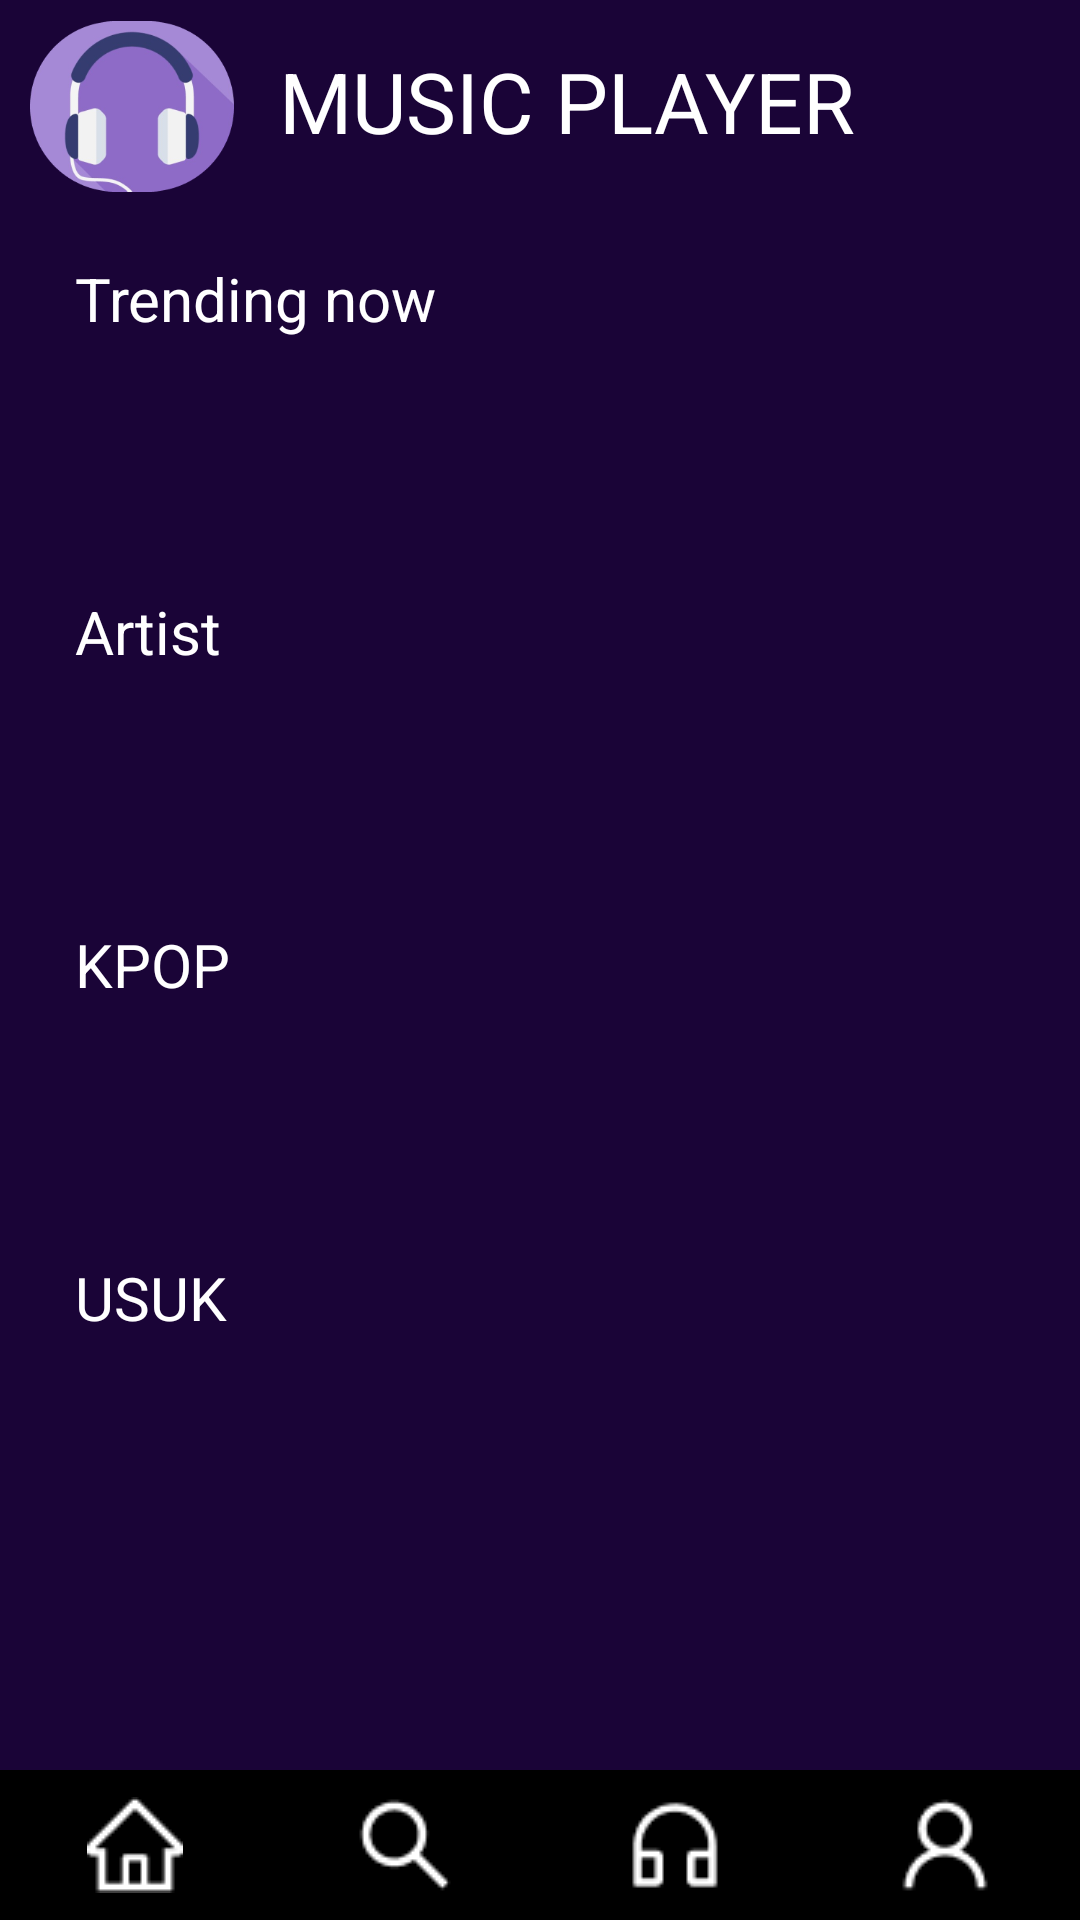

Named icons in this screenshot (1080*1920) and their centers, (x,y):
accounticon: (945,1845)
headphoneimgbtn: (675,1845)
homebtnimg: (135,1845)
searchimgbtn: (404,1845)
